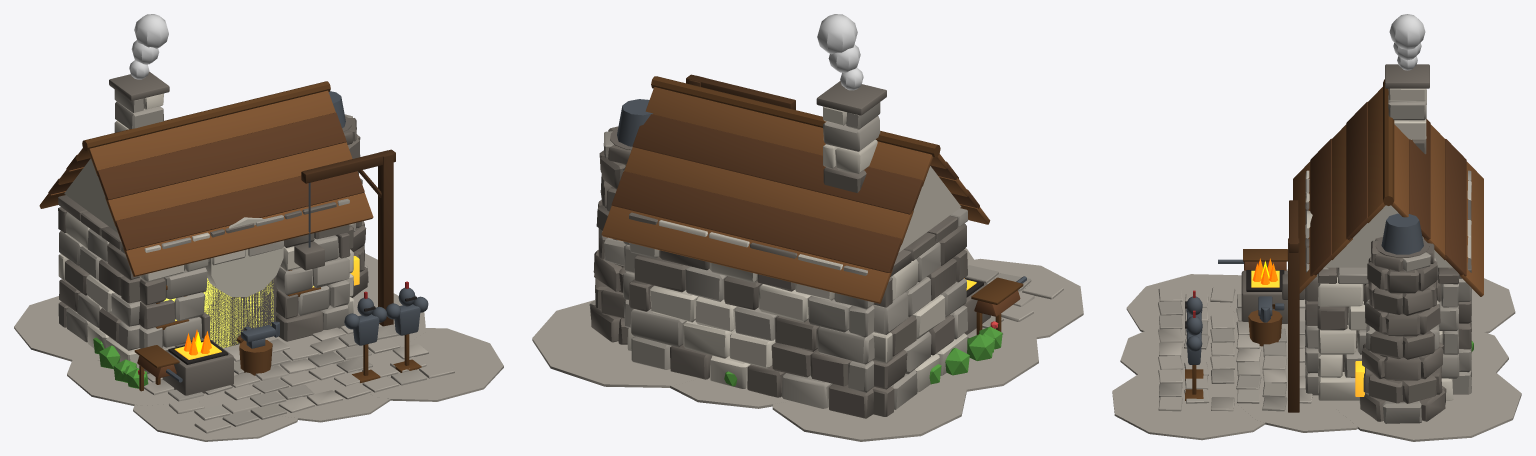
The model's file is kuznia_poz14.glb.
The picture shows the model from 3 angles, left to right: view 1: azimuth 30°, elevation 25°; view 2: azimuth 150°, elevation 25°; view 3: azimuth 270°, elevation 25°; orthographic projection. The views are drawn at different scales.
Visible parts, largest first — view 1: kuznia_poz14; view 2: kuznia_poz14; view 3: kuznia_poz14.
Boxes of the visible parts, x1,y1,x2,y2 form: kuznia_poz14: (14,14,503,441); kuznia_poz14: (532,14,1083,441); kuznia_poz14: (1112,14,1521,441).
Bounding box in the file's own units: 8.62 × 7.33 × 8.64.
